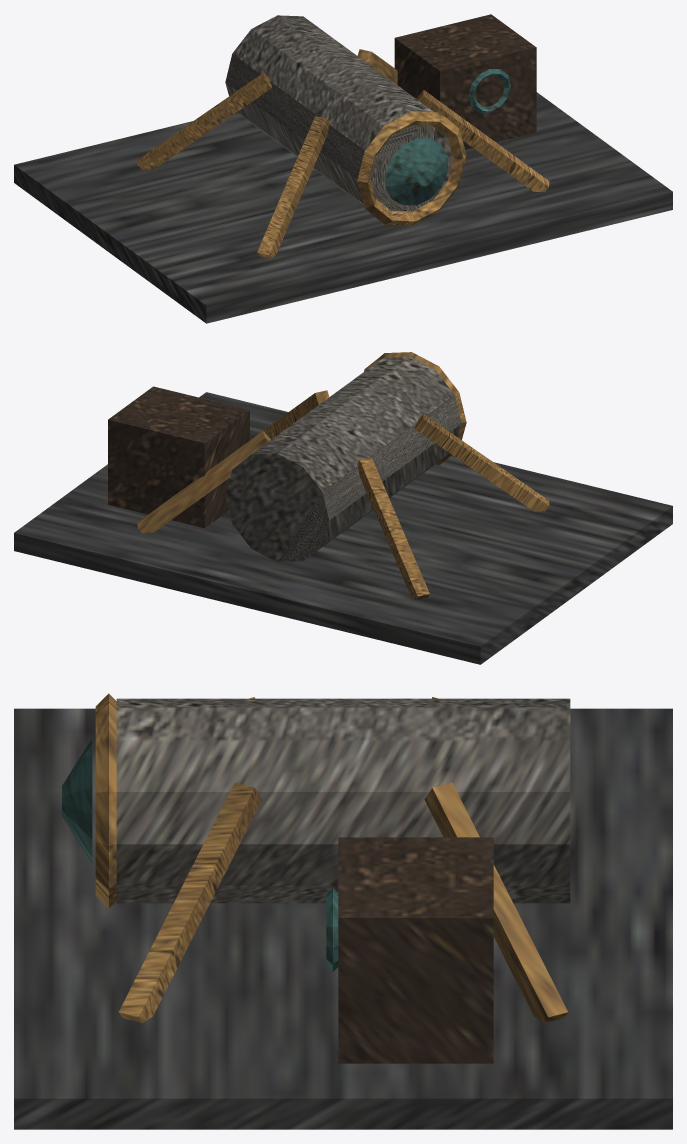
The model's file is probe-recovery-cradle.glb.
3 renders of one model, top to bottom at view 1: azimuth 30°, elevation 25°; view 2: azimuth 150°, elevation 25°; view 3: azimuth 270°, elevation 25°, orthographic. The views are drawn at different scales.
Visible parts, largest first — view 1: probe-recovery-cradle; view 2: probe-recovery-cradle; view 3: probe-recovery-cradle.
Part boxes in pixels (x1,y1,x2,y2): probe-recovery-cradle: (14, 14, 672, 323); probe-recovery-cradle: (14, 352, 672, 664); probe-recovery-cradle: (14, 693, 672, 1129).
Size of the model in its own units: 7 by 1.94 by 5.
Materials: 1 (1 with a texture image).
